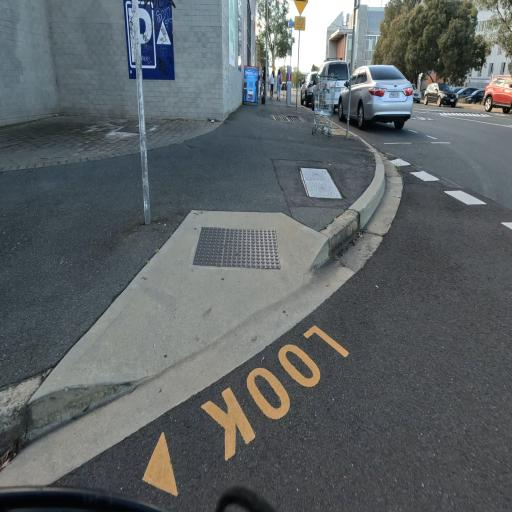kerb_cut: (33, 212, 325, 398)
